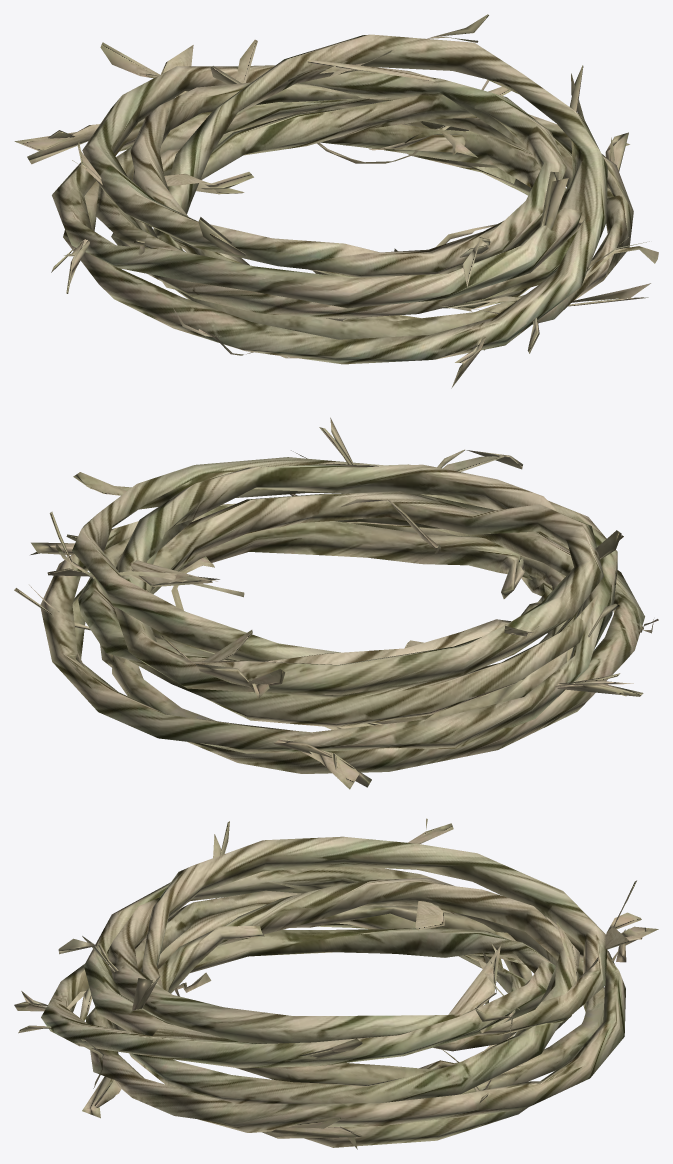
The model's file is twine.glb.
3 renders of one model, top to bottom at view 1: azimuth 30°, elevation 25°; view 2: azimuth 150°, elevation 25°; view 3: azimuth 270°, elevation 25°, orthographic. The views are drawn at different scales.
Bounding box in the file's own units: 0.14 × 0.0327 × 0.14.
Materials: 1 (1 with a texture image).
